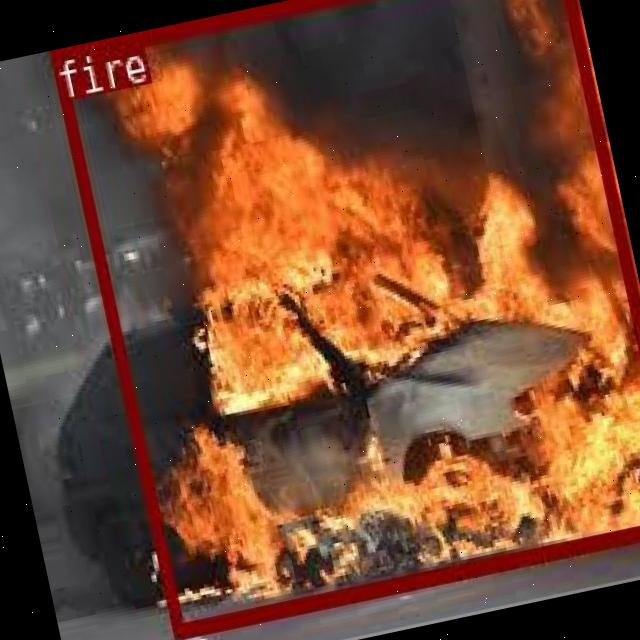fire: (48, 0, 640, 637)
